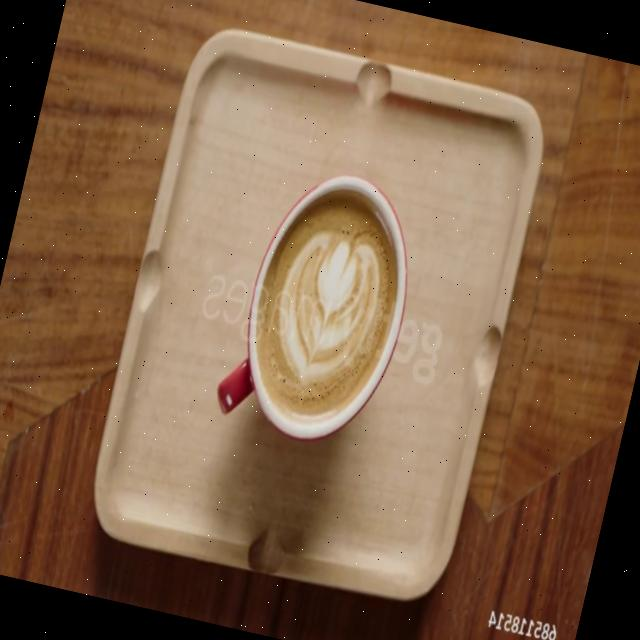cup: (209, 156, 432, 458)
tray: (79, 19, 556, 614)
